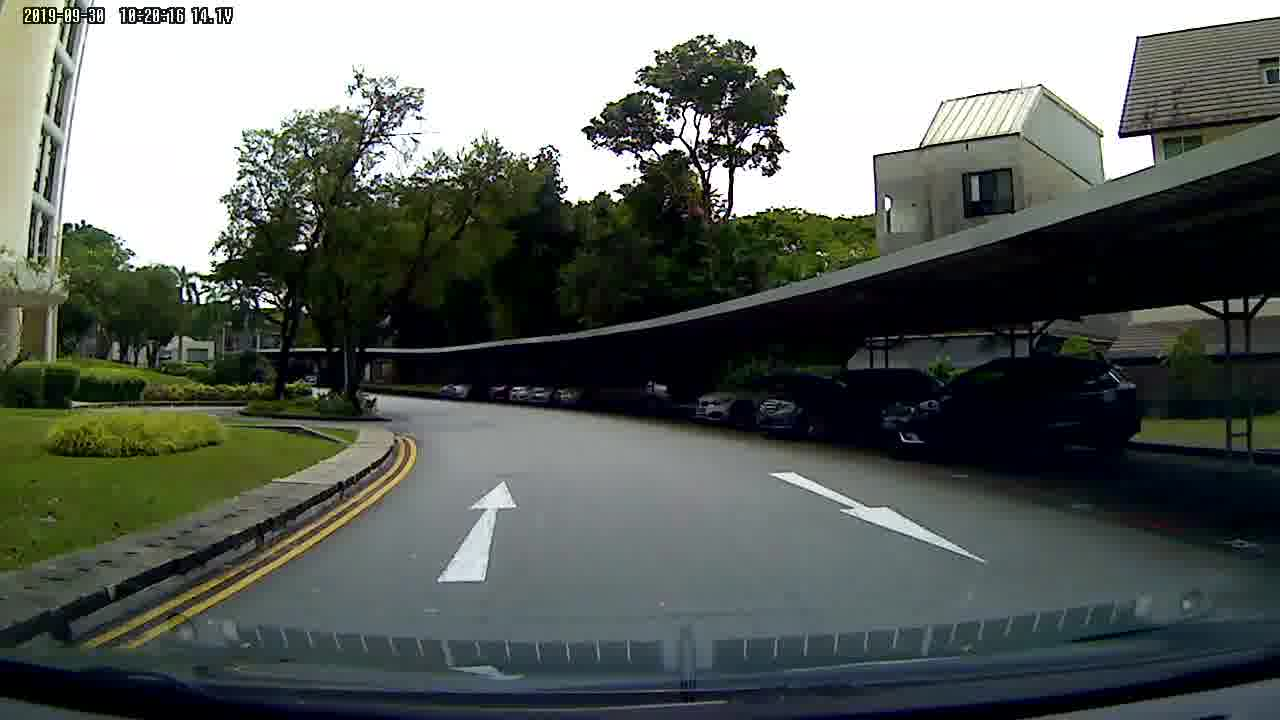car: (878, 356, 1161, 469), (760, 356, 881, 447)
